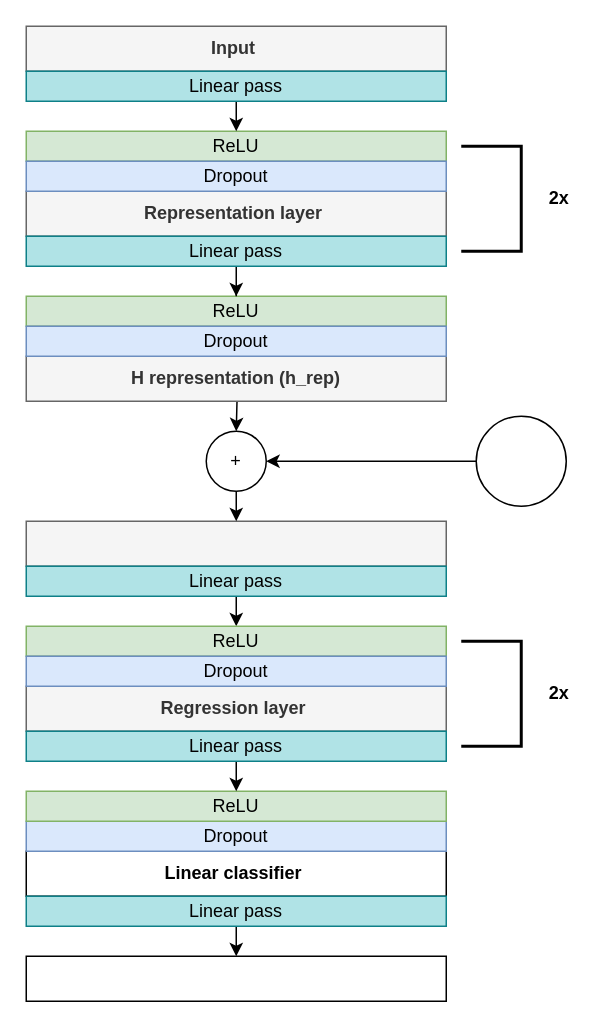
The diagram is 608 pixels wide and 1028 high, and some of its shapes have lost their labels. The shapes that lost their labels are listed below. From the top down, each one's centre as x and y in pixels, then its label:
point (520, 460): t = {1,0}
point (235, 543): Input regression layers
point (235, 978): Output
